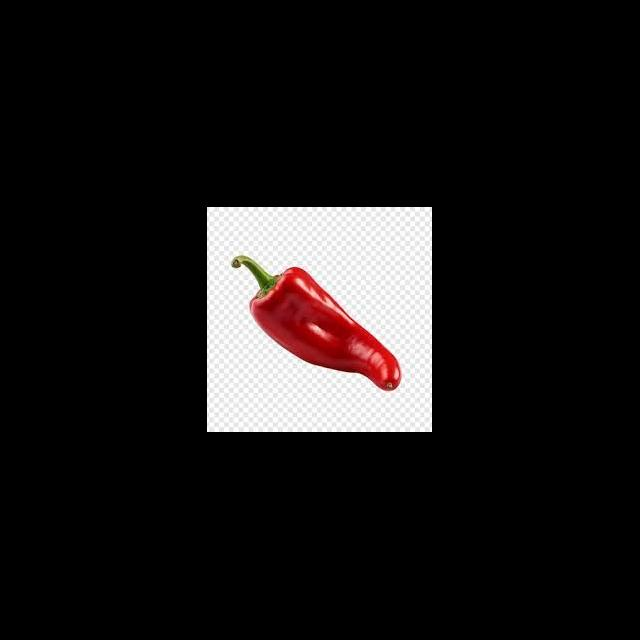chili_pepper: (248, 267, 412, 388)
